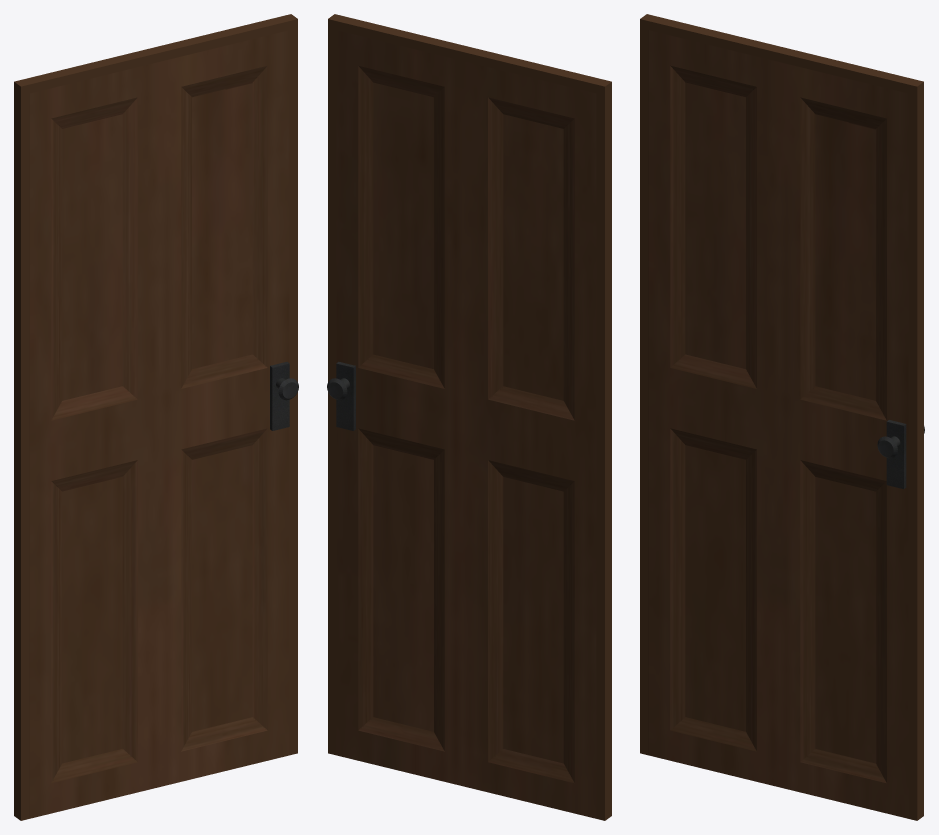
The model's file is Wood Mansion Door.fbx.
The picture shows the model from 3 angles, left to right: view 1: azimuth 30°, elevation 25°; view 2: azimuth 150°, elevation 25°; view 3: azimuth 330°, elevation 25°; orthographic projection.
Parts seen in each view (by area): view 1: Door, Frame, Door Handle (L); view 2: Door, Frame, Door Handle (R); view 3: Door, Frame, Door Handle (L).
Part boxes in pixels (<box>): Door: <box>29,30,289,818</box>; Frame: <box>14,14,297,820</box>; Door Handle (L): <box>270,361,289,430</box>; Door: <box>336,30,596,818</box>; Frame: <box>328,14,611,820</box>; Door Handle (R): <box>336,361,355,430</box>; Door: <box>648,30,908,818</box>; Frame: <box>640,14,923,820</box>; Door Handle (L): <box>886,420,906,489</box>.
Bounding box in the file's own units: 975 × 2469 × 186.
